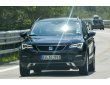License Plates: (40, 54, 66, 60)
